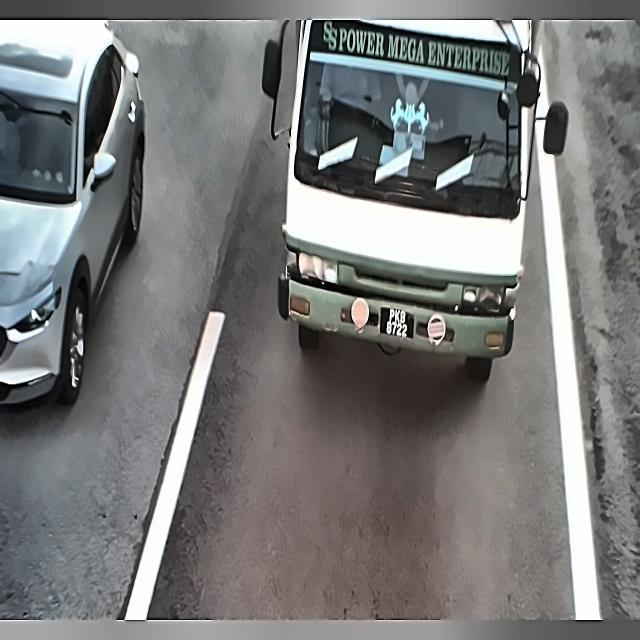car: (378, 301, 418, 346)
